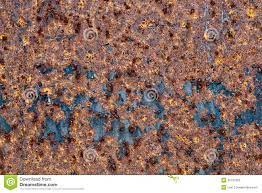rust: (1, 2, 260, 175)
